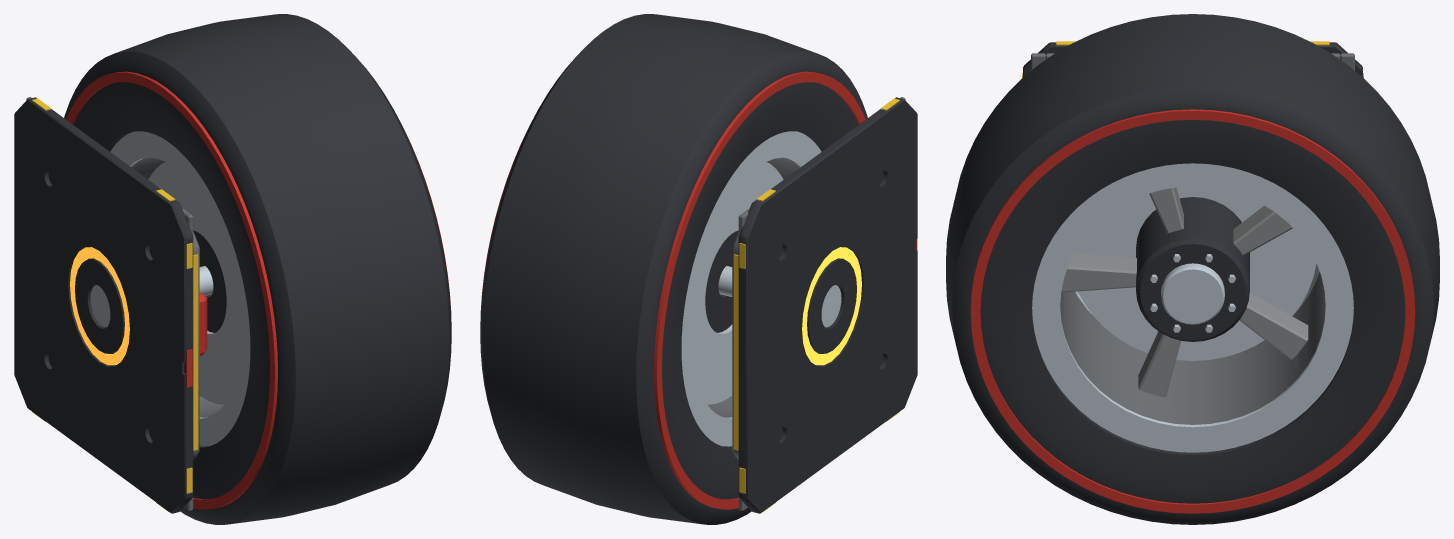
File: R4M_WheelM_Side_Slick.glb
3 renders of one model, left to right at view 1: azimuth 30°, elevation 25°; view 2: azimuth 150°, elevation 25°; view 3: azimuth 270°, elevation 25°, orthographic.
Visible parts, largest first — view 1: R4M_WheelM_Side_Slick_Rotor, R4M_WheelM_Side_Slick_Mount; view 2: R4M_WheelM_Side_Slick_Rotor, R4M_WheelM_Side_Slick_Mount; view 3: R4M_WheelM_Side_Slick_Rotor, R4M_WheelM_Side_Slick_Mount.
Part boxes in pixels (x1=…): R4M_WheelM_Side_Slick_Rotor: x1=64, y1=14, x2=451, y2=524; R4M_WheelM_Side_Slick_Mount: x1=14, y1=97, x2=213, y2=513; R4M_WheelM_Side_Slick_Rotor: x1=480, y1=14, x2=867, y2=524; R4M_WheelM_Side_Slick_Mount: x1=718, y1=97, x2=917, y2=513; R4M_WheelM_Side_Slick_Rotor: x1=946, y1=14, x2=1439, y2=524; R4M_WheelM_Side_Slick_Mount: x1=1022, y1=41, x2=1363, y2=292.
Bounding box in the file's own units: 0.4138 × 0.74 × 0.74.
